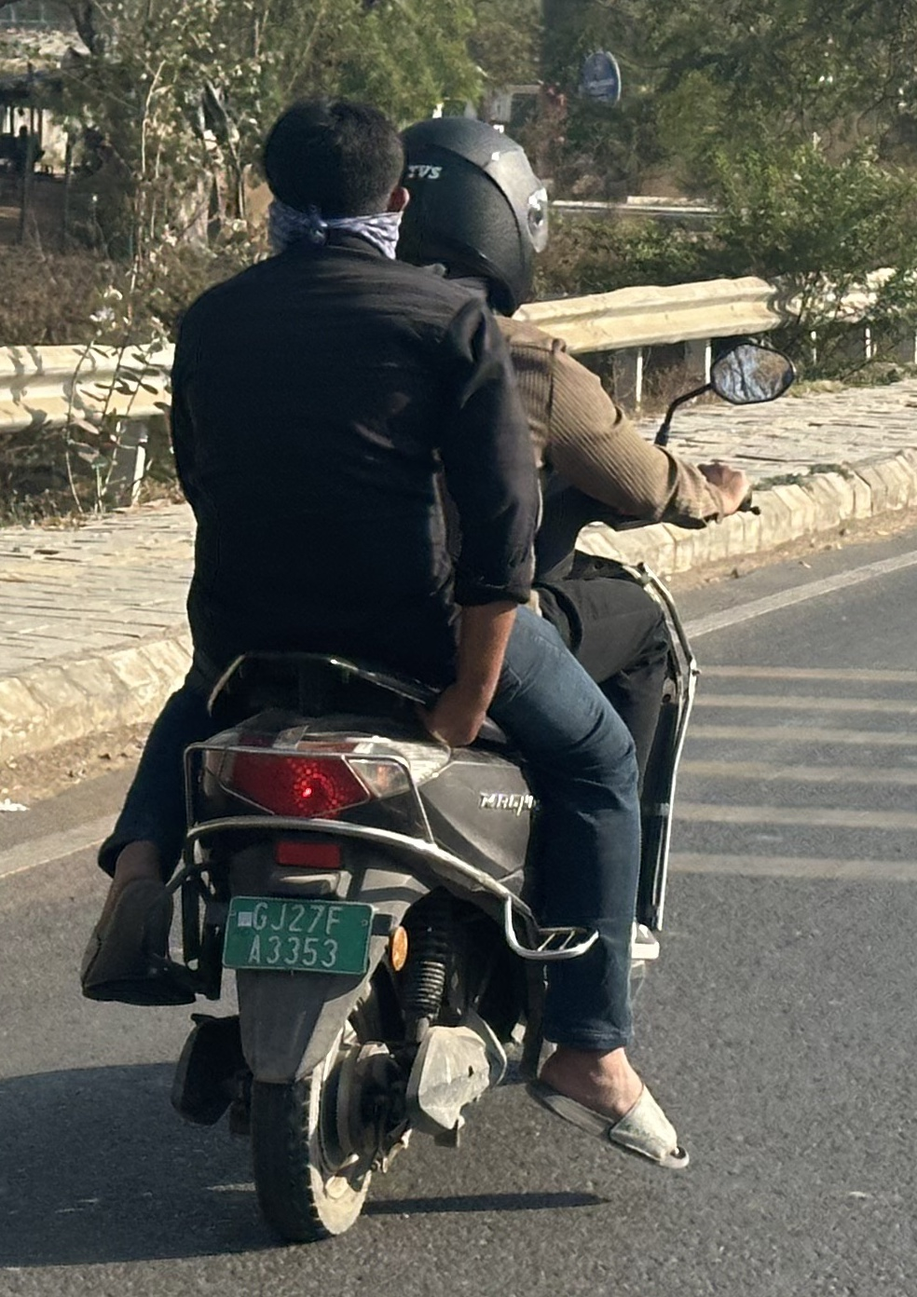BikeWithRider: (61, 77, 809, 1258)
Helmet: (376, 102, 564, 324)
NoHelmet: (241, 86, 422, 268)
